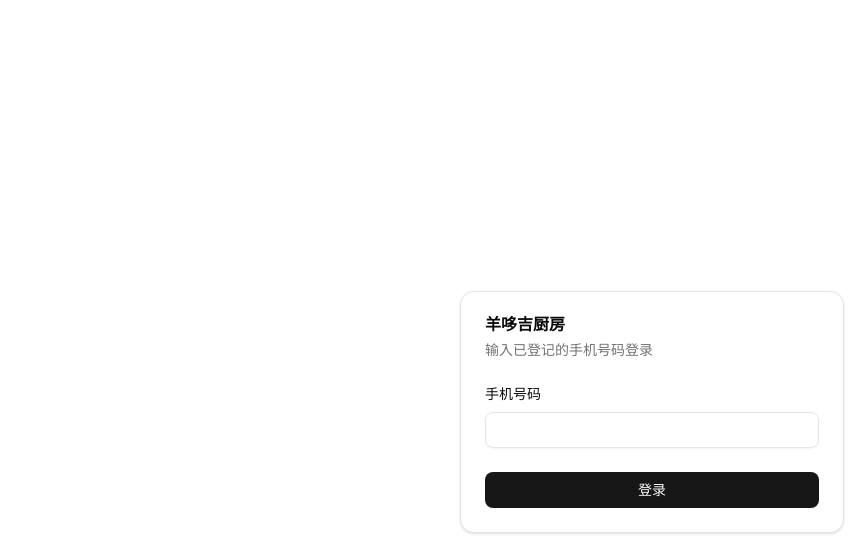
Scenario: LoginPage › 登录成功后跳转首页
Type "13800000001" into the field labelled "手机号码".
click(652, 430); type("13800000001")  # box [485,412,819,448]
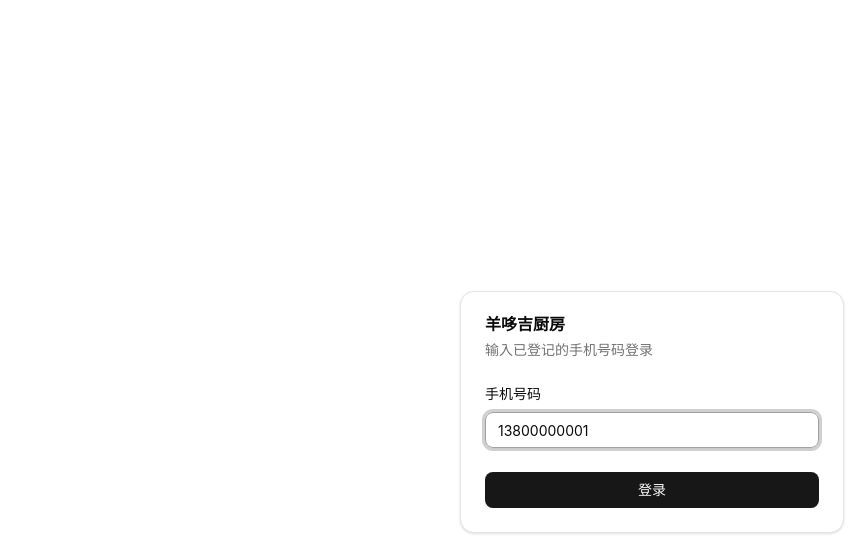
Click the button "登录".
click(652, 490)  # box [485,472,819,508]
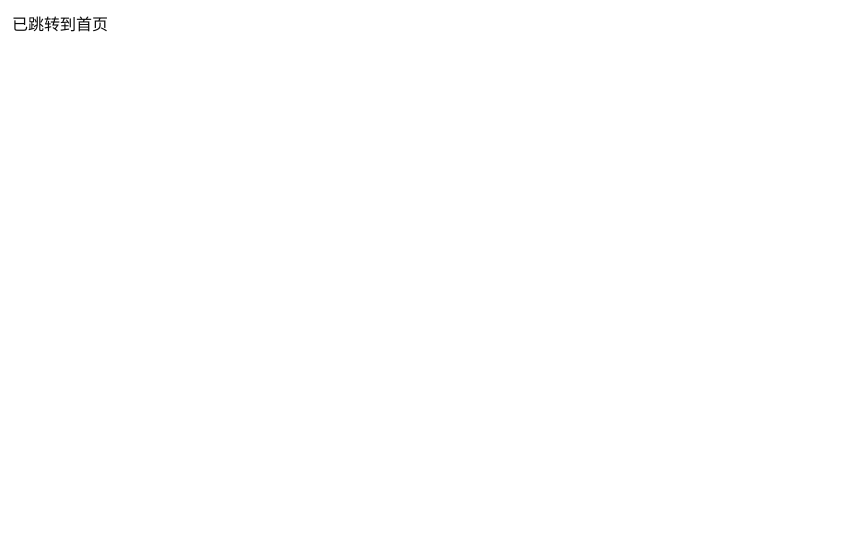
Now the text "已跳转到首页" is shown, box [12,14,108,34]
